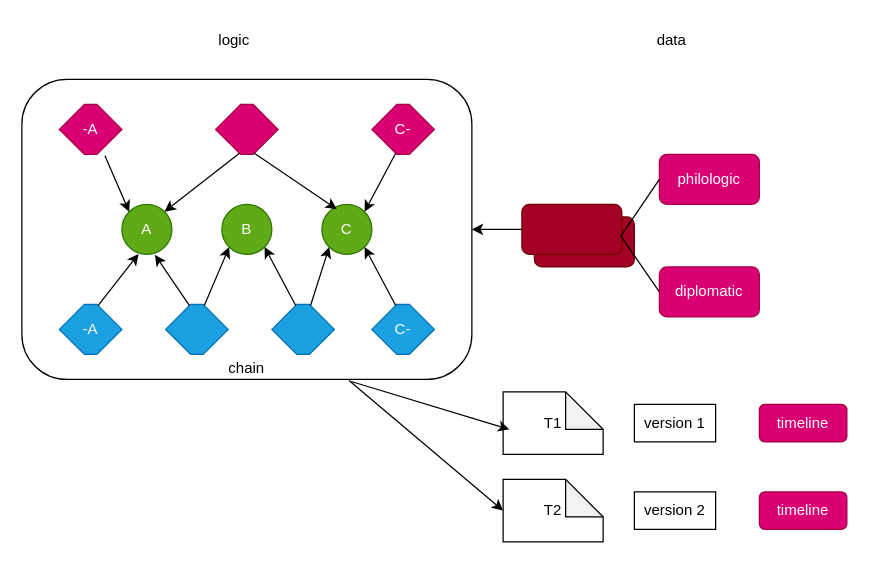
Some shapes in this 869 by 564 pixel diagram are drawn without their labels. The shapes that lost their labels are listed below. From the top down, each one's centre as x and y in pixels, then its label:
pixel 246 128: AC
pixel 571 228: operation
pixel 196 328: AB
pixel 302 328: BC
